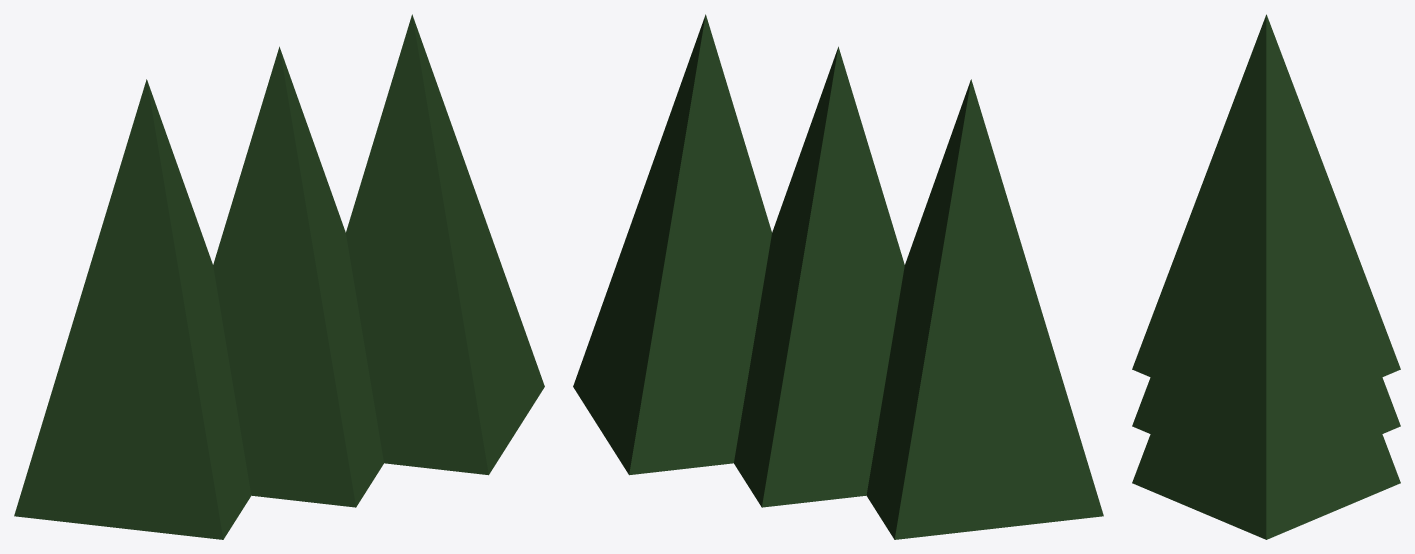
Rendered from ENV_Grass_A.glb.
3 views of the same model, side by side, from view 1: azimuth 30°, elevation 25°; view 2: azimuth 150°, elevation 25°; view 3: azimuth 270°, elevation 25° (orthographic). The views are drawn at different scales.
Parts seen in each view (by area): view 1: ENV_Grass_A_Blade0, ENV_Grass_A_Blade2, ENV_Grass_A_Blade1; view 2: ENV_Grass_A_Blade0, ENV_Grass_A_Blade2, ENV_Grass_A_Blade1; view 3: ENV_Grass_A_Blade2, ENV_Grass_A_Blade0, ENV_Grass_A_Blade1.
Boxes of the visible parts, x1=… form: ENV_Grass_A_Blade0: x1=14, y1=79, x2=251, y2=539; ENV_Grass_A_Blade2: x1=346, y1=14, x2=544, y2=475; ENV_Grass_A_Blade1: x1=213, y1=46, x2=383, y2=507; ENV_Grass_A_Blade0: x1=866, y1=79, x2=1103, y2=539; ENV_Grass_A_Blade2: x1=573, y1=14, x2=771, y2=475; ENV_Grass_A_Blade1: x1=734, y1=46, x2=904, y2=507; ENV_Grass_A_Blade2: x1=1132, y1=128, x2=1400, y2=539; ENV_Grass_A_Blade0: x1=1132, y1=14, x2=1400, y2=376; ENV_Grass_A_Blade1: x1=1132, y1=71, x2=1400, y2=433.
Size of the model in its own units: 0.48 by 0.35 by 0.24.
